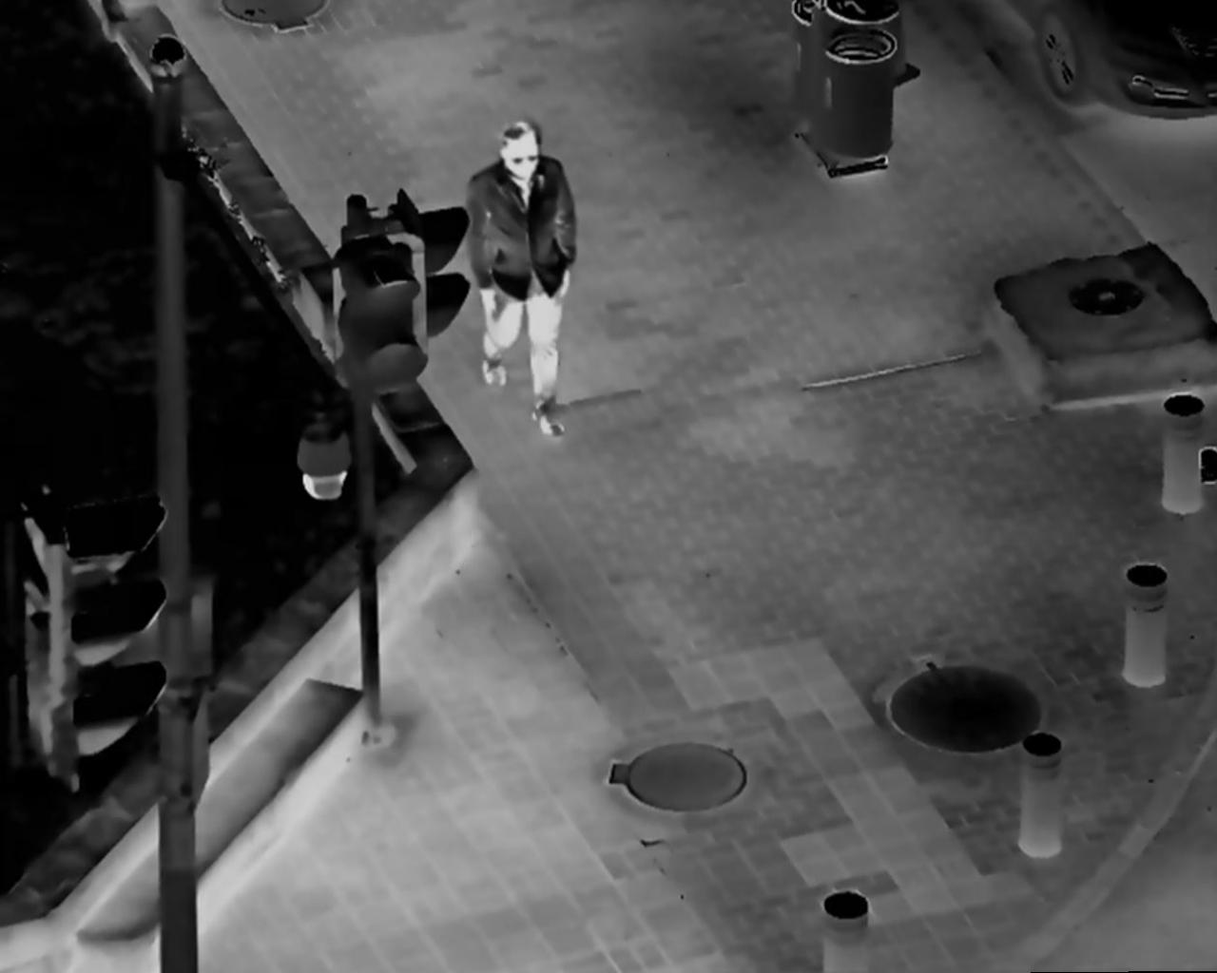person: (461, 109, 580, 442)
